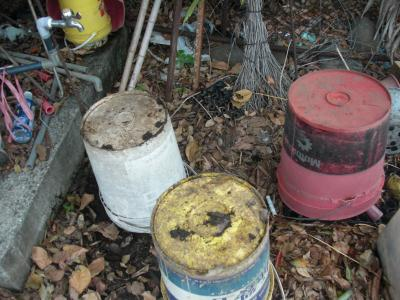bottle: (11, 89, 35, 145)
bucket: (275, 66, 395, 222), (149, 168, 277, 299), (76, 89, 191, 234), (57, 1, 113, 44)
